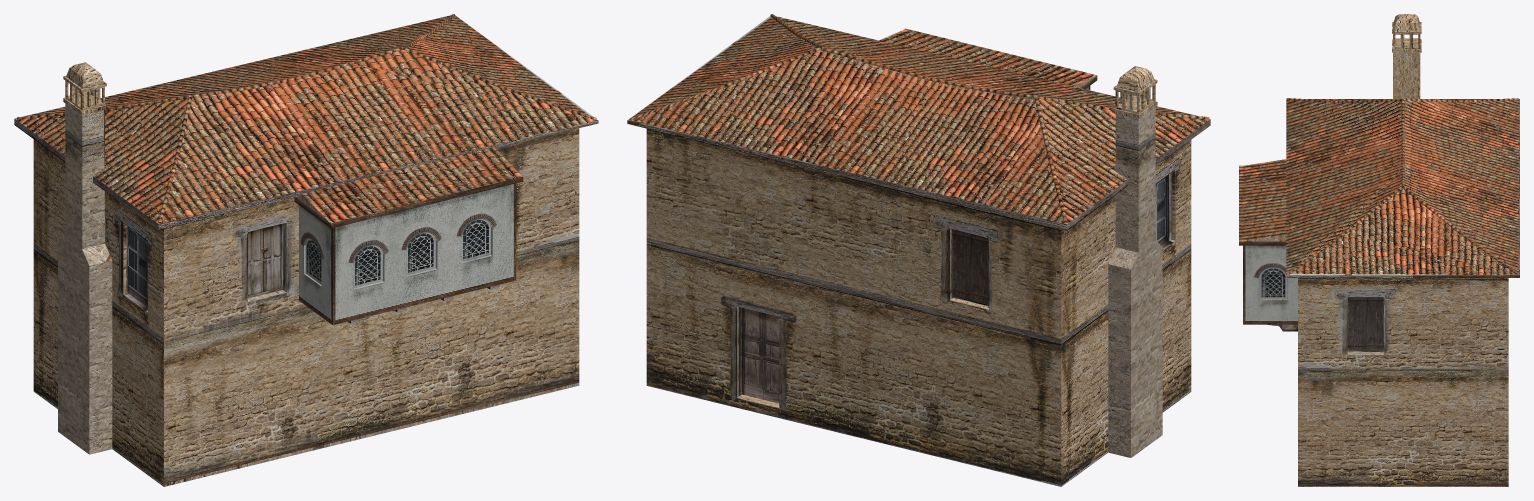
The model's file is ottoman2d.fbx.
The picture shows the model from 3 angles, left to right: view 1: azimuth 30°, elevation 25°; view 2: azimuth 150°, elevation 25°; view 3: azimuth 270°, elevation 25°; orthographic projection. The views are drawn at different scales.
Visible parts, largest first — view 1: Mesh1; view 2: Mesh1; view 3: Mesh1.
Boxes of the visible parts, left/top/right/bottom form: Mesh1: left=14, top=14, right=598, bottom=486; Mesh1: left=627, top=14, right=1210, bottom=486; Mesh1: left=1239, top=14, right=1519, bottom=486.
Size of the model in its own units: 2775 by 2210 by 1848.
